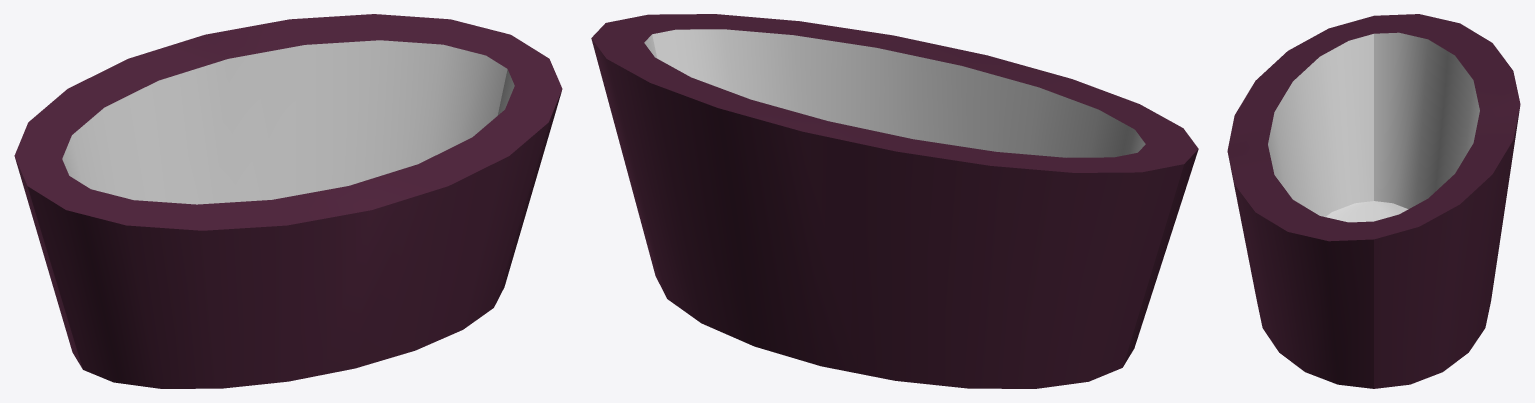
File: DM_Basket.fbx
The picture shows the model from 3 angles, left to right: view 1: azimuth 30°, elevation 25°; view 2: azimuth 150°, elevation 25°; view 3: azimuth 270°, elevation 25°; orthographic projection. The views are drawn at different scales.
Visible parts, largest first — view 1: DM_Basket; view 2: DM_Basket; view 3: DM_Basket.
Part boxes in pixels (<box>): DM_Basket: <box>14,14,562,388</box>; DM_Basket: <box>591,14,1198,388</box>; DM_Basket: <box>1227,14,1520,388</box>.
Bounding box in the file's own units: 554 × 227 × 307.
